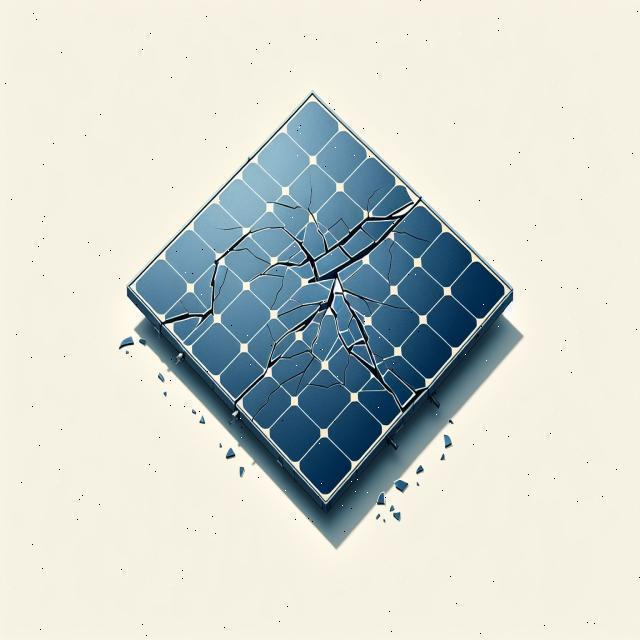Anomaly Solar Panel: (115, 93, 522, 500)
Structural Damage: (160, 203, 318, 371), (217, 283, 348, 434), (283, 162, 415, 282), (313, 287, 422, 419), (306, 347, 360, 403), (337, 286, 411, 324), (271, 285, 326, 317), (390, 226, 433, 243), (263, 197, 301, 212), (384, 238, 394, 291), (214, 222, 243, 232)
